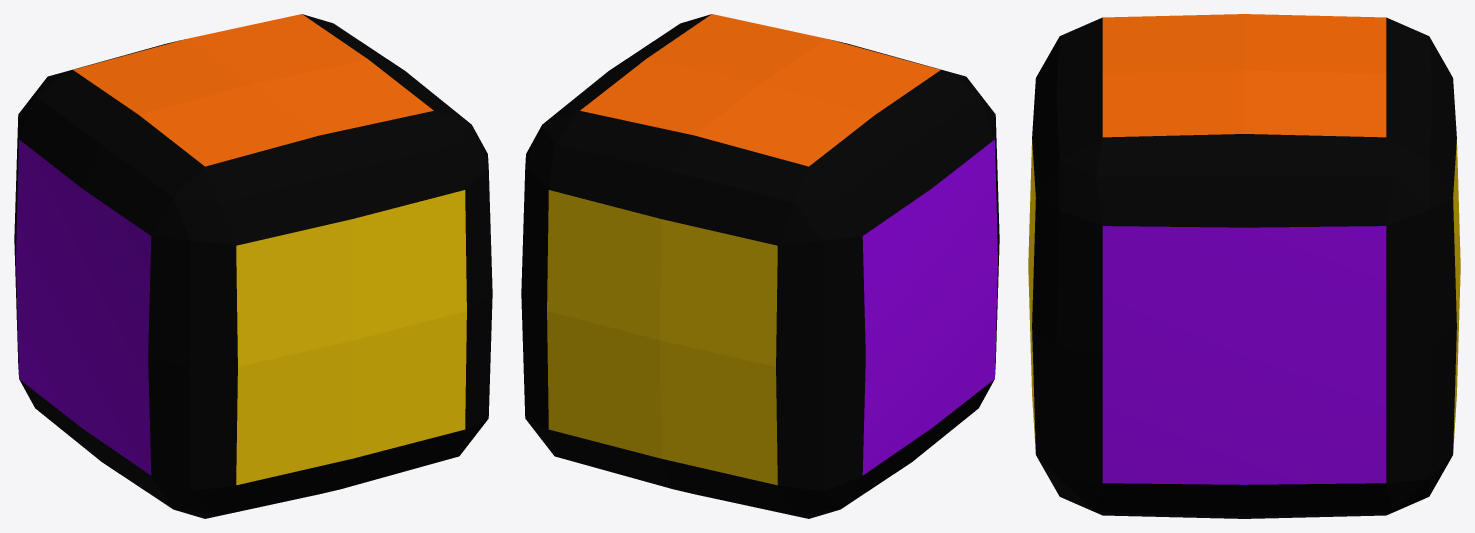
The model's file is player.obj.
3 views of the same model, side by side, from view 1: azimuth 30°, elevation 25°; view 2: azimuth 150°, elevation 25°; view 3: azimuth 270°, elevation 25° (orthographic). The views are drawn at different scales.
Parts seen in each view (by area): view 1: Cube.001; view 2: Cube.001; view 3: Cube.001.
Part boxes in pixels (left/top/right/bottom): Cube.001: left=14, top=14, right=492, bottom=518; Cube.001: left=521, top=14, right=999, bottom=518; Cube.001: left=1028, top=14, right=1460, bottom=518.
Size of the model in its own units: 16 by 16 by 16.
Materials: 1 (1 with a texture image).
